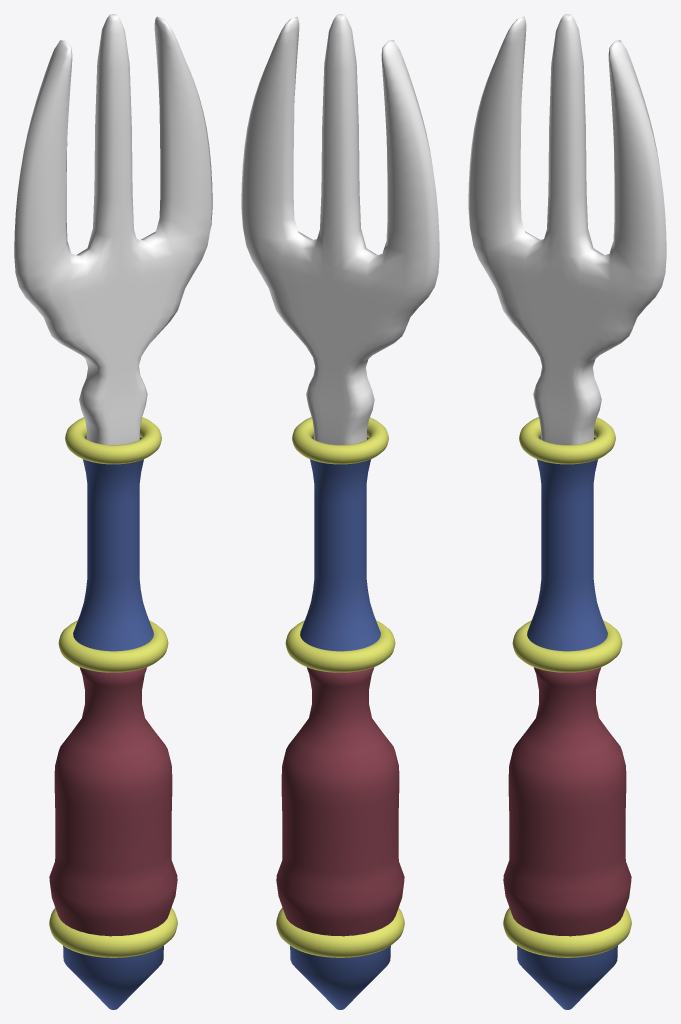
The model's file is Fork.fbx.
3 views of the same model, side by side, from view 1: azimuth 30°, elevation 25°; view 2: azimuth 150°, elevation 25°; view 3: azimuth 330°, elevation 25° (orthographic).
Parts seen in each view (by area): view 1: Fork, Handle_Down, Handle_Up, Handle_Bottom, Ring_Down, Ring_Middle, Ring_Up; view 2: Fork, Handle_Down, Handle_Up, Handle_Bottom, Ring_Down, Ring_Middle, Ring_Up; view 3: Fork, Handle_Down, Handle_Up, Handle_Bottom, Ring_Down, Ring_Middle, Ring_Up.
Boxes of the visible parts, x1=… form: Fork: x1=14, y1=14, x2=212, y2=444; Handle_Down: x1=49, y1=667, x2=177, y2=936; Handle_Up: x1=73, y1=437, x2=153, y2=651; Handle_Bottom: x1=63, y1=945, x2=163, y2=1009; Ring_Down: x1=49, y1=908, x2=177, y2=957; Ring_Middle: x1=58, y1=620, x2=168, y2=672; Ring_Up: x1=65, y1=417, x2=161, y2=464; Fork: x1=241, y1=14, x2=439, y2=444; Handle_Down: x1=276, y1=667, x2=404, y2=936; Handle_Up: x1=300, y1=437, x2=380, y2=651; Handle_Bottom: x1=290, y1=945, x2=390, y2=1009; Ring_Down: x1=276, y1=908, x2=404, y2=957; Ring_Middle: x1=285, y1=620, x2=395, y2=672; Ring_Up: x1=292, y1=417, x2=388, y2=464; Fork: x1=468, y1=14, x2=666, y2=444; Handle_Down: x1=503, y1=667, x2=631, y2=936; Handle_Up: x1=527, y1=437, x2=607, y2=651; Handle_Bottom: x1=517, y1=945, x2=617, y2=1009; Ring_Down: x1=503, y1=908, x2=631, y2=957; Ring_Middle: x1=512, y1=620, x2=622, y2=672; Ring_Up: x1=519, y1=417, x2=615, y2=464.
Bounding box in the file's own units: 42.9 × 205 × 24.12.
